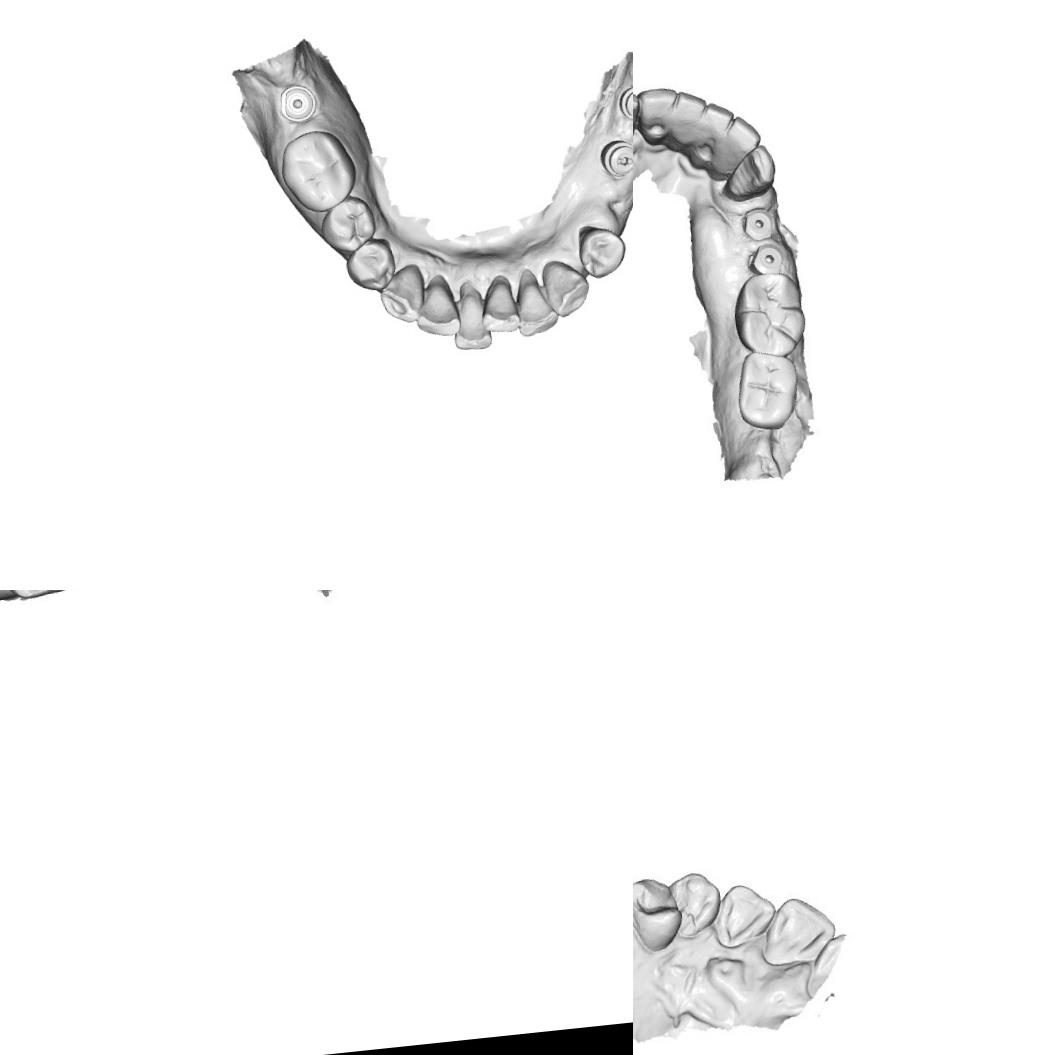canine: (665, 868, 722, 940), (540, 256, 593, 319), (377, 262, 429, 326), (718, 144, 774, 200), (633, 90, 642, 148)
implant: (277, 82, 318, 126), (750, 238, 786, 276), (742, 203, 774, 241)
implant_minus: (597, 137, 633, 180), (616, 81, 633, 122)
incisor: (754, 894, 834, 971), (710, 879, 777, 952), (511, 264, 561, 338), (446, 276, 494, 352), (410, 272, 463, 340), (636, 86, 681, 154), (475, 273, 522, 335), (666, 88, 708, 128), (722, 118, 762, 160), (696, 97, 734, 141)
molar: (276, 127, 361, 216), (735, 274, 800, 359), (734, 352, 802, 430)
premolar: (316, 192, 379, 256), (633, 875, 681, 946), (343, 236, 398, 294), (575, 222, 629, 280)
